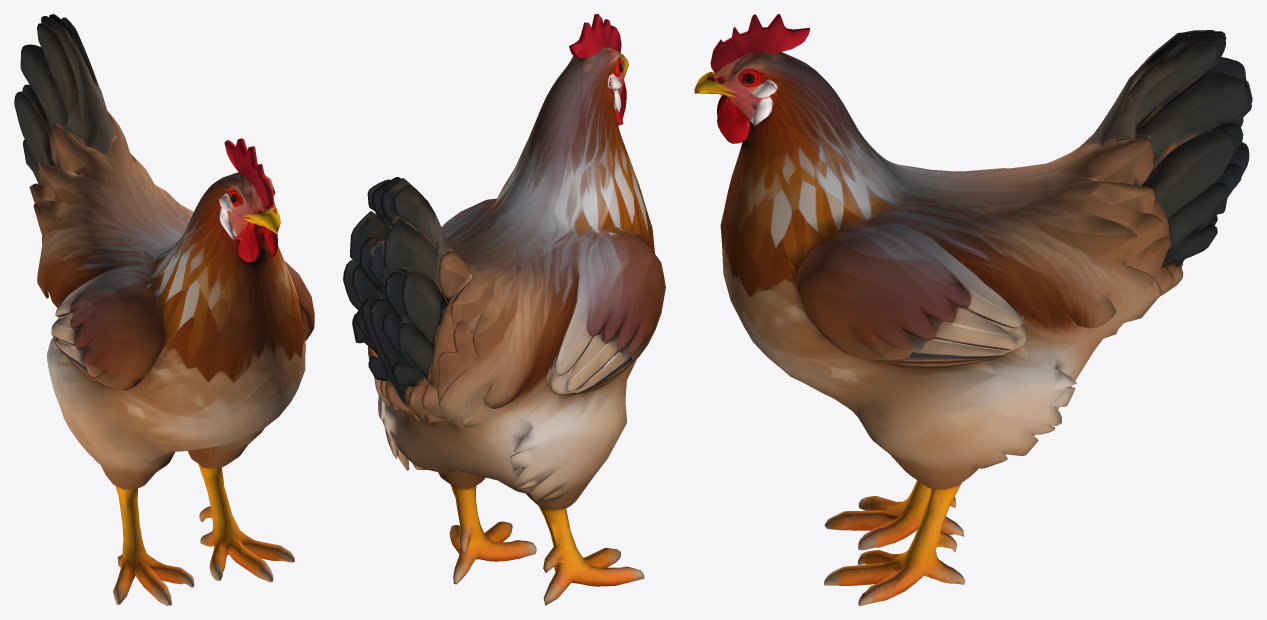
File: animal_chicken_brown_r.glb
3 renders of one model, left to right at view 1: azimuth 30°, elevation 25°; view 2: azimuth 150°, elevation 25°; view 3: azimuth 270°, elevation 25°, orthographic. The views are drawn at different scales.
Visible parts, largest first — view 1: node_0; view 2: node_0; view 3: node_0.
Part boxes in pixels (x1,y1,x2,y2): node_0: (14, 14, 314, 605); node_0: (343, 14, 665, 605); node_0: (694, 14, 1252, 605).
Size of the model in its own units: 0.2262 by 0.5 by 0.4634.
Materials: 1 (1 with a texture image).
